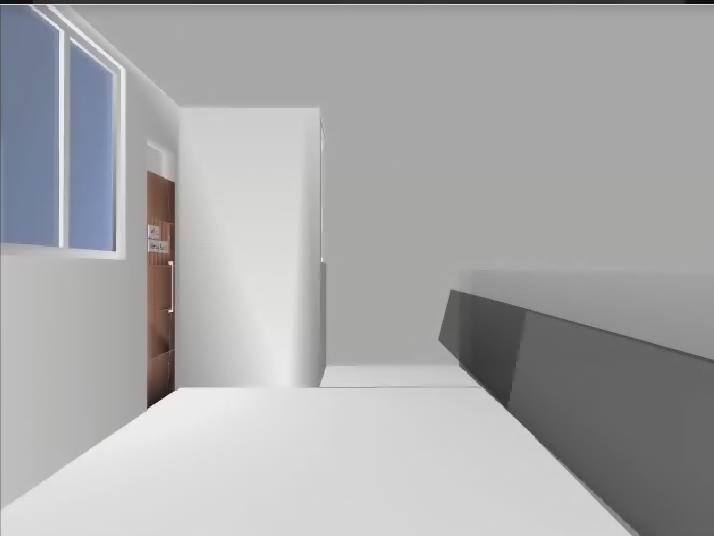door: (148, 171, 175, 409)
